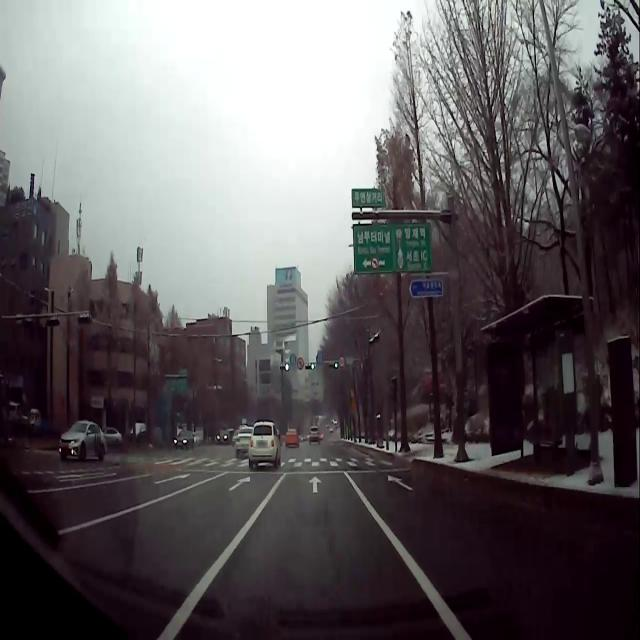Green Light: (310, 363, 315, 370), (285, 364, 289, 371), (334, 362, 338, 368)
